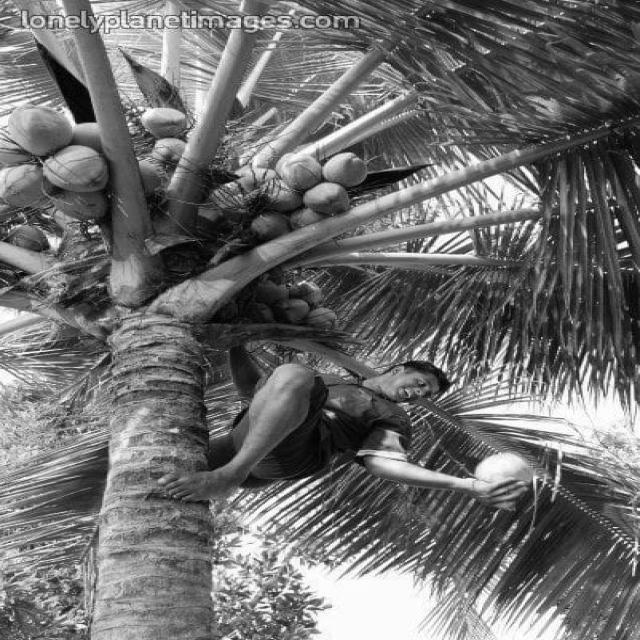Coconut-tree: (14, 34, 640, 608), (70, 94, 375, 336)
